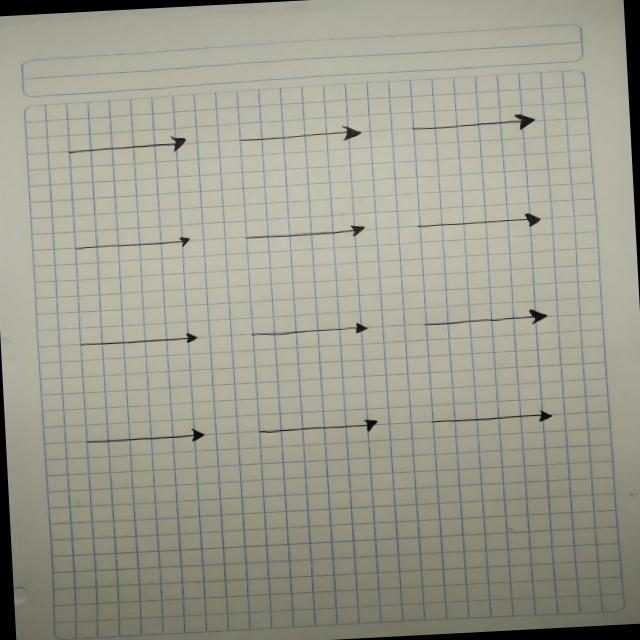arrow_line_right: (228, 214, 386, 253), (406, 206, 560, 246), (66, 324, 216, 360), (416, 402, 570, 437), (400, 108, 556, 142), (78, 420, 210, 460), (247, 410, 393, 446), (222, 118, 372, 152), (55, 128, 194, 164), (235, 318, 373, 349), (411, 304, 563, 332), (59, 227, 198, 256)
